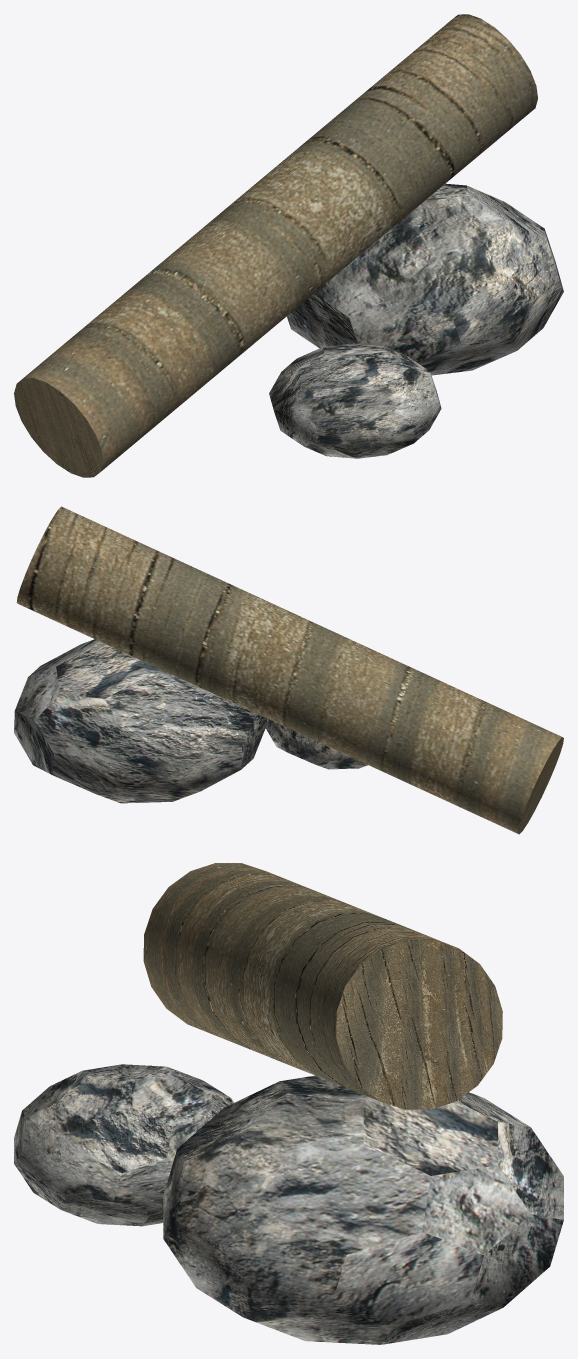
The model's file is Obstacle_Boom.fbx.
3 views of the same model, one above another, from view 1: azimuth 30°, elevation 25°; view 2: azimuth 150°, elevation 25°; view 3: azimuth 270°, elevation 25° (orthographic). The views are drawn at different scales.
Visible parts, largest first — view 1: pCylinder1, pSolid1, pSolid2; view 2: pCylinder1, pSolid1, pSolid2; view 3: pSolid1, pCylinder1, pSolid2.
Part boxes in pixels (x1,y1,x2,y2): pCylinder1: (14,14,537,477); pSolid1: (287,183,563,375); pSolid2: (269,343,441,458); pCylinder1: (16,506,563,834); pSolid1: (14,639,266,803); pSolid2: (265,718,367,769); pSolid1: (163,1075,563,1344); pCylinder1: (143,863,502,1109); pSolid2: (14,1064,233,1226).
Size of the model in its own units: 10.71 by 5.65 by 6.55.
2 materials, 2 textured.
